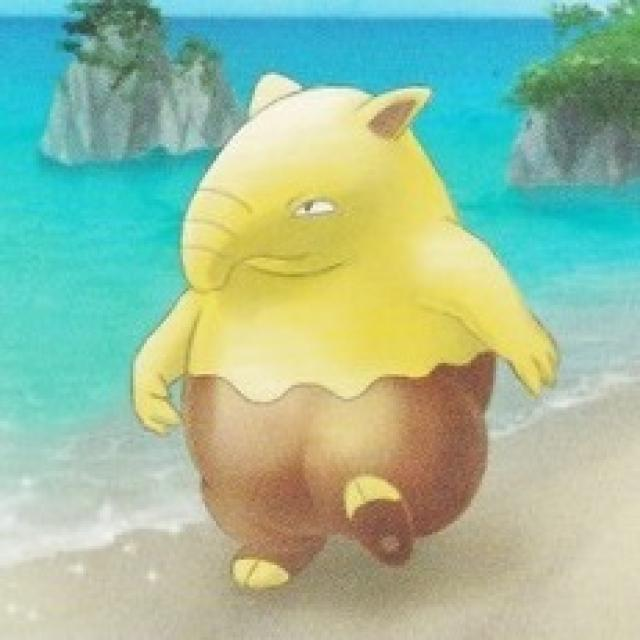Drowzee: (178, 71, 494, 592)
